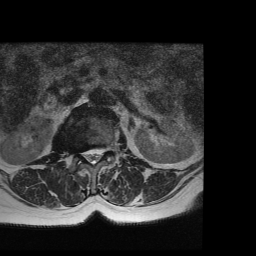CCS_normal: (90, 143, 96, 169)
LFS_normal: (104, 137, 112, 158)
LLS_normal: (96, 143, 104, 164)
RFS_severe_stenosis: (74, 144, 82, 161)
RLS_normal: (82, 142, 90, 166)
